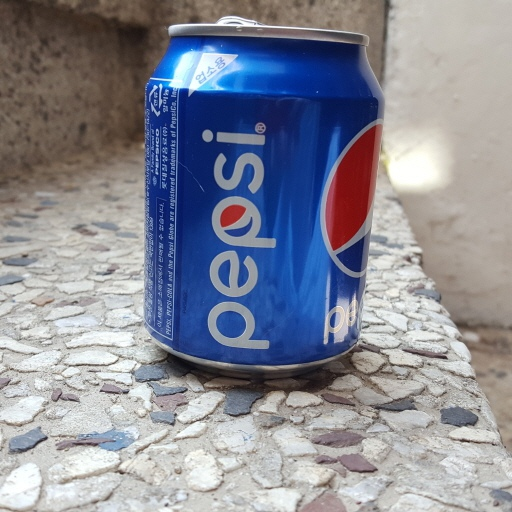Metal_0: (143, 17, 386, 384)
